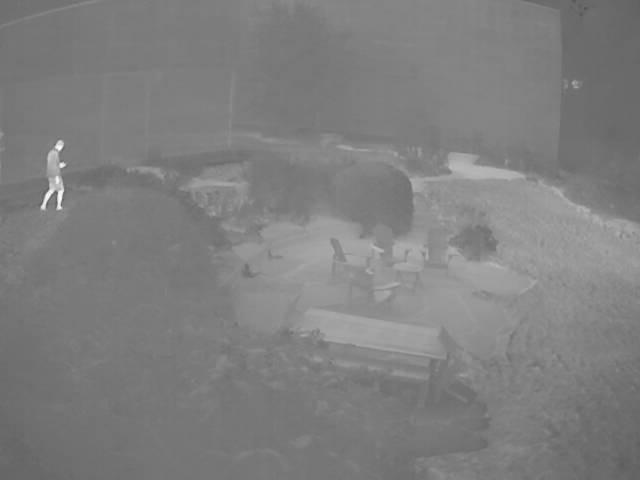person: (39, 138, 67, 212)
